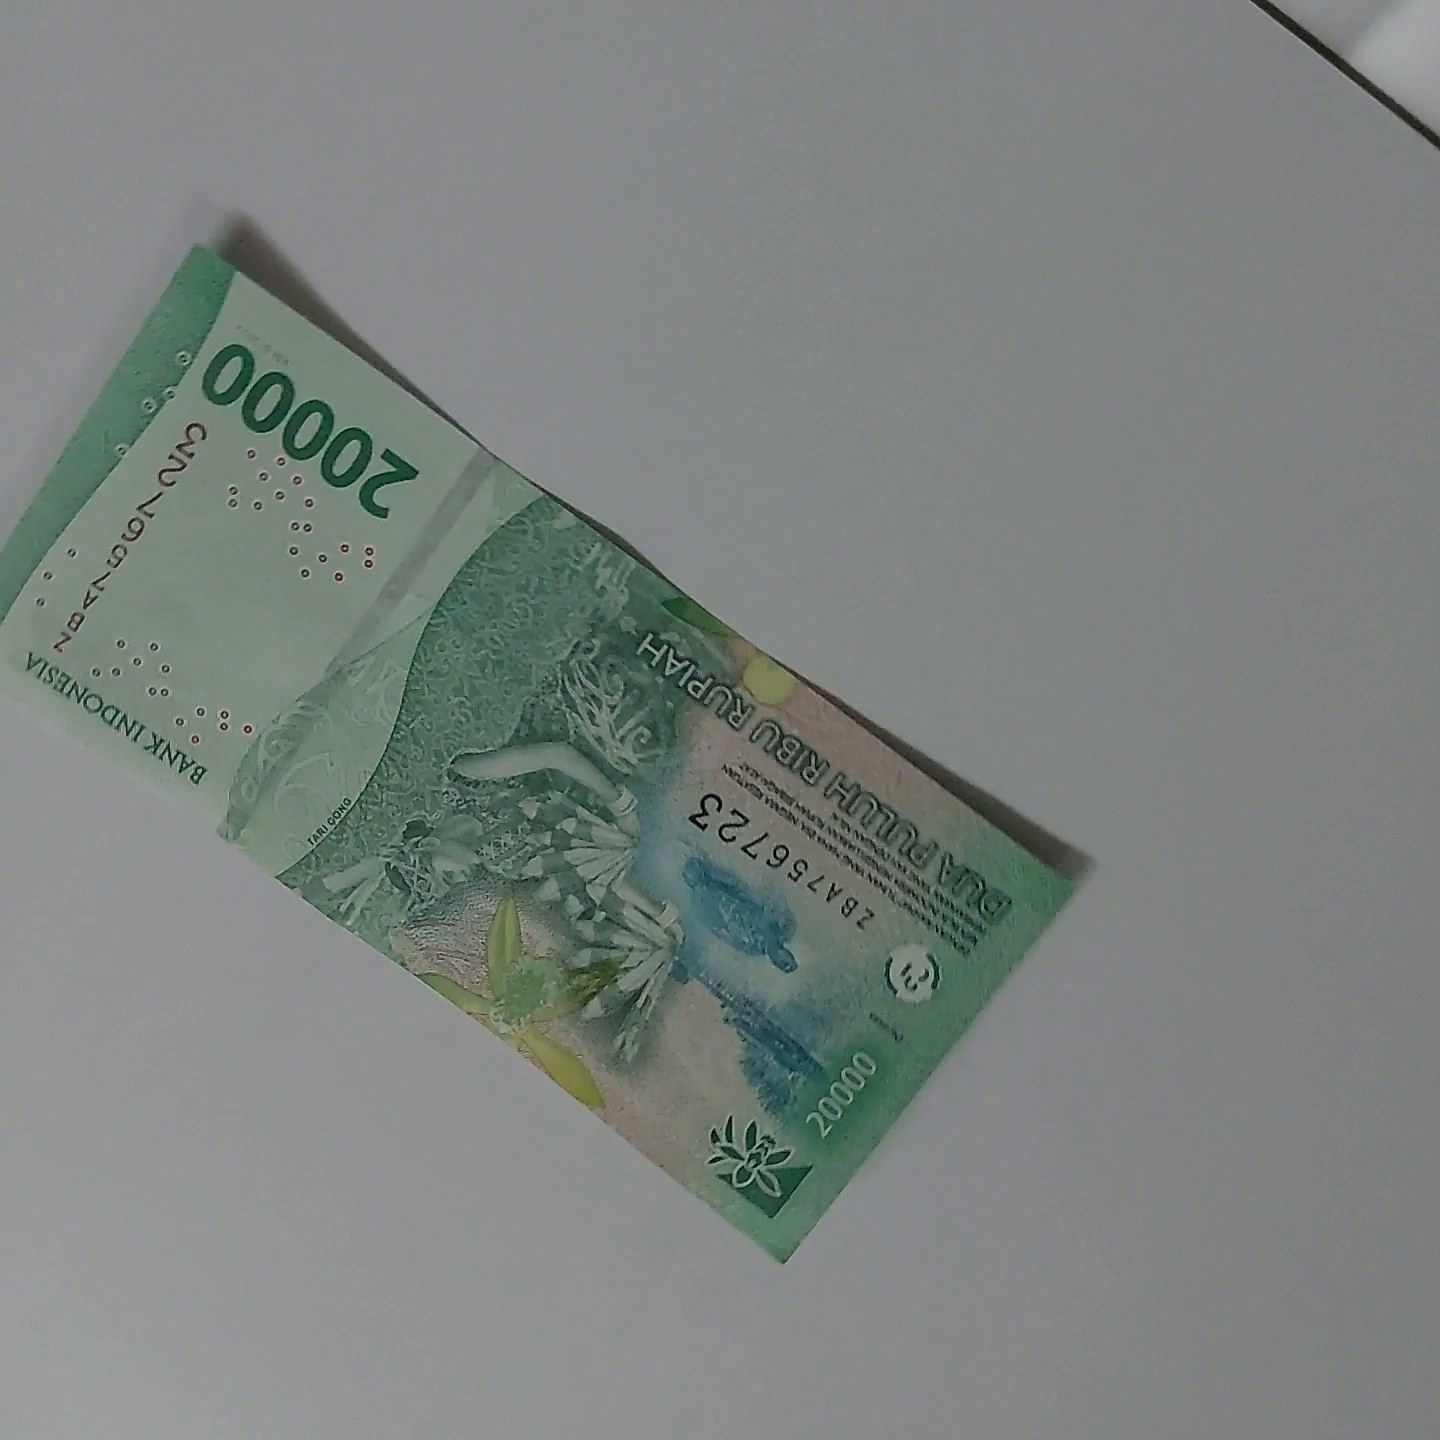20k: (0, 663, 464, 1440)
